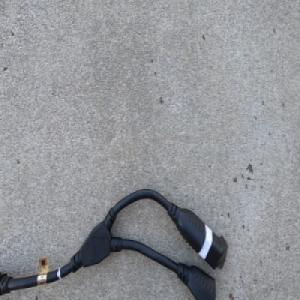Wire: (0, 187, 228, 300)
